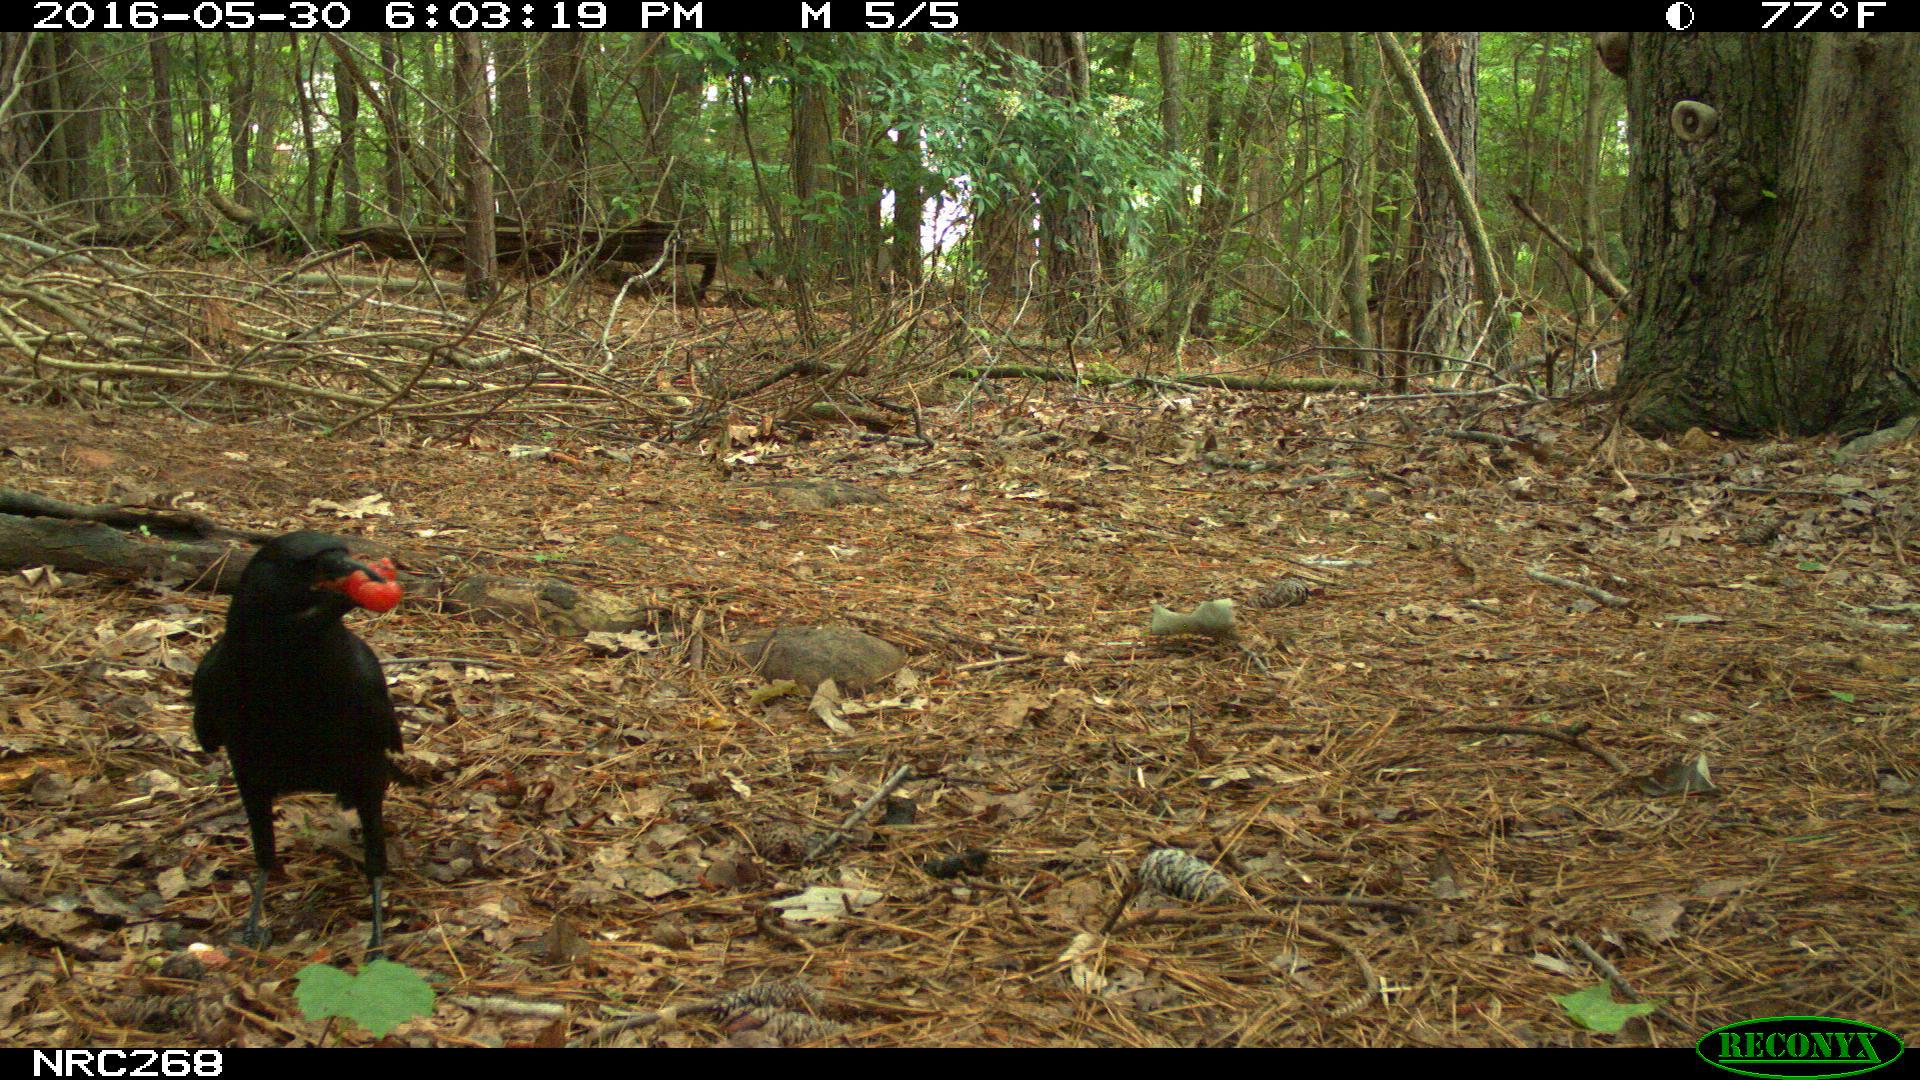Animal: (189, 531, 405, 953)
